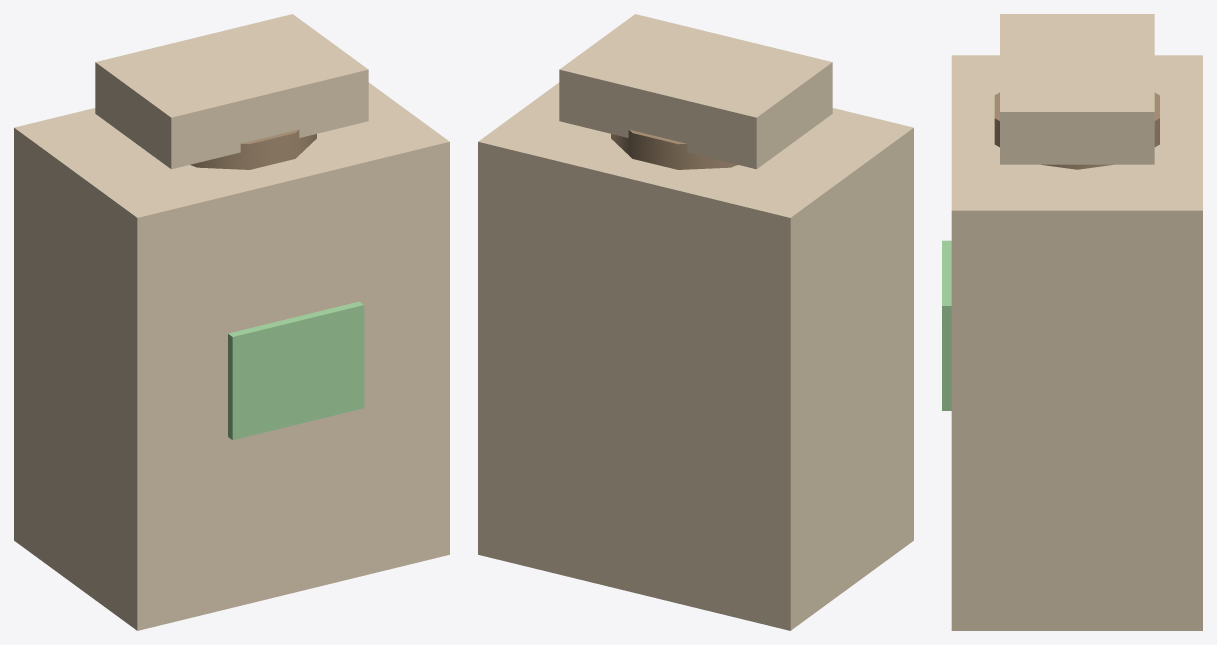
File: compost_bag.glb
The picture shows the model from 3 angles, left to right: view 1: azimuth 30°, elevation 25°; view 2: azimuth 150°, elevation 25°; view 3: azimuth 270°, elevation 25°; orthographic projection.
Parts seen in each view (by area): view 1: CompostBag; view 2: CompostBag; view 3: CompostBag.
Part boxes in pixels (x1,y1,x2,y2): CompostBag: (14, 14, 449, 630); CompostBag: (478, 14, 913, 630); CompostBag: (942, 14, 1202, 630).
Size of the model in its own units: 0.38 by 0.56 by 0.27.
